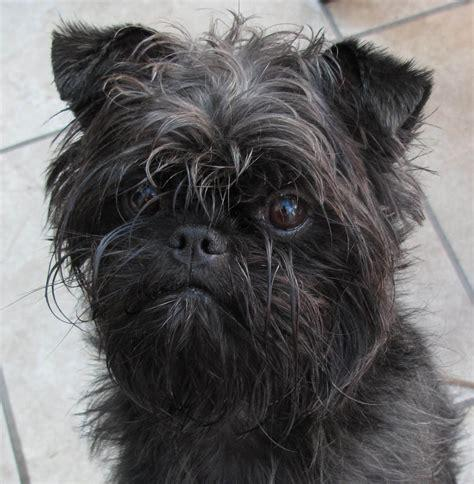dog: (51, 25, 457, 482)
